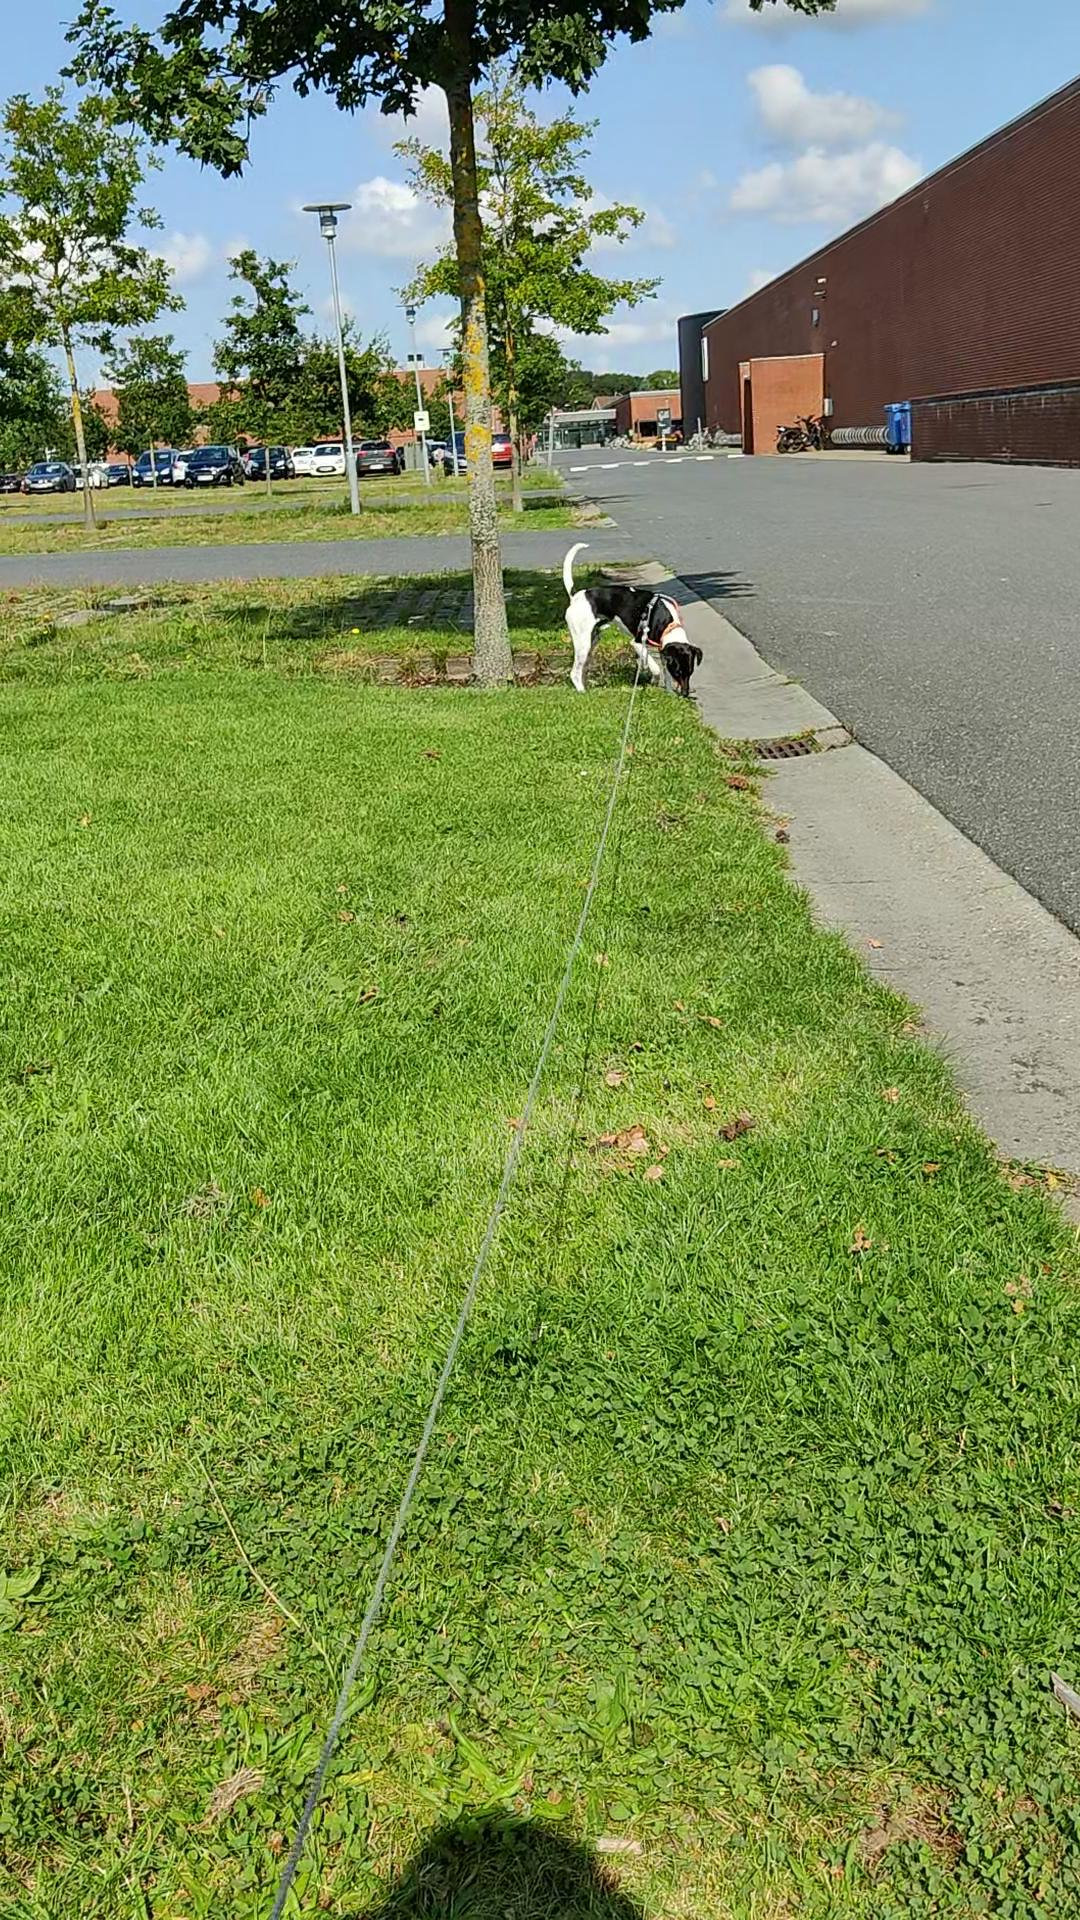Dog: (559, 539, 703, 698)
